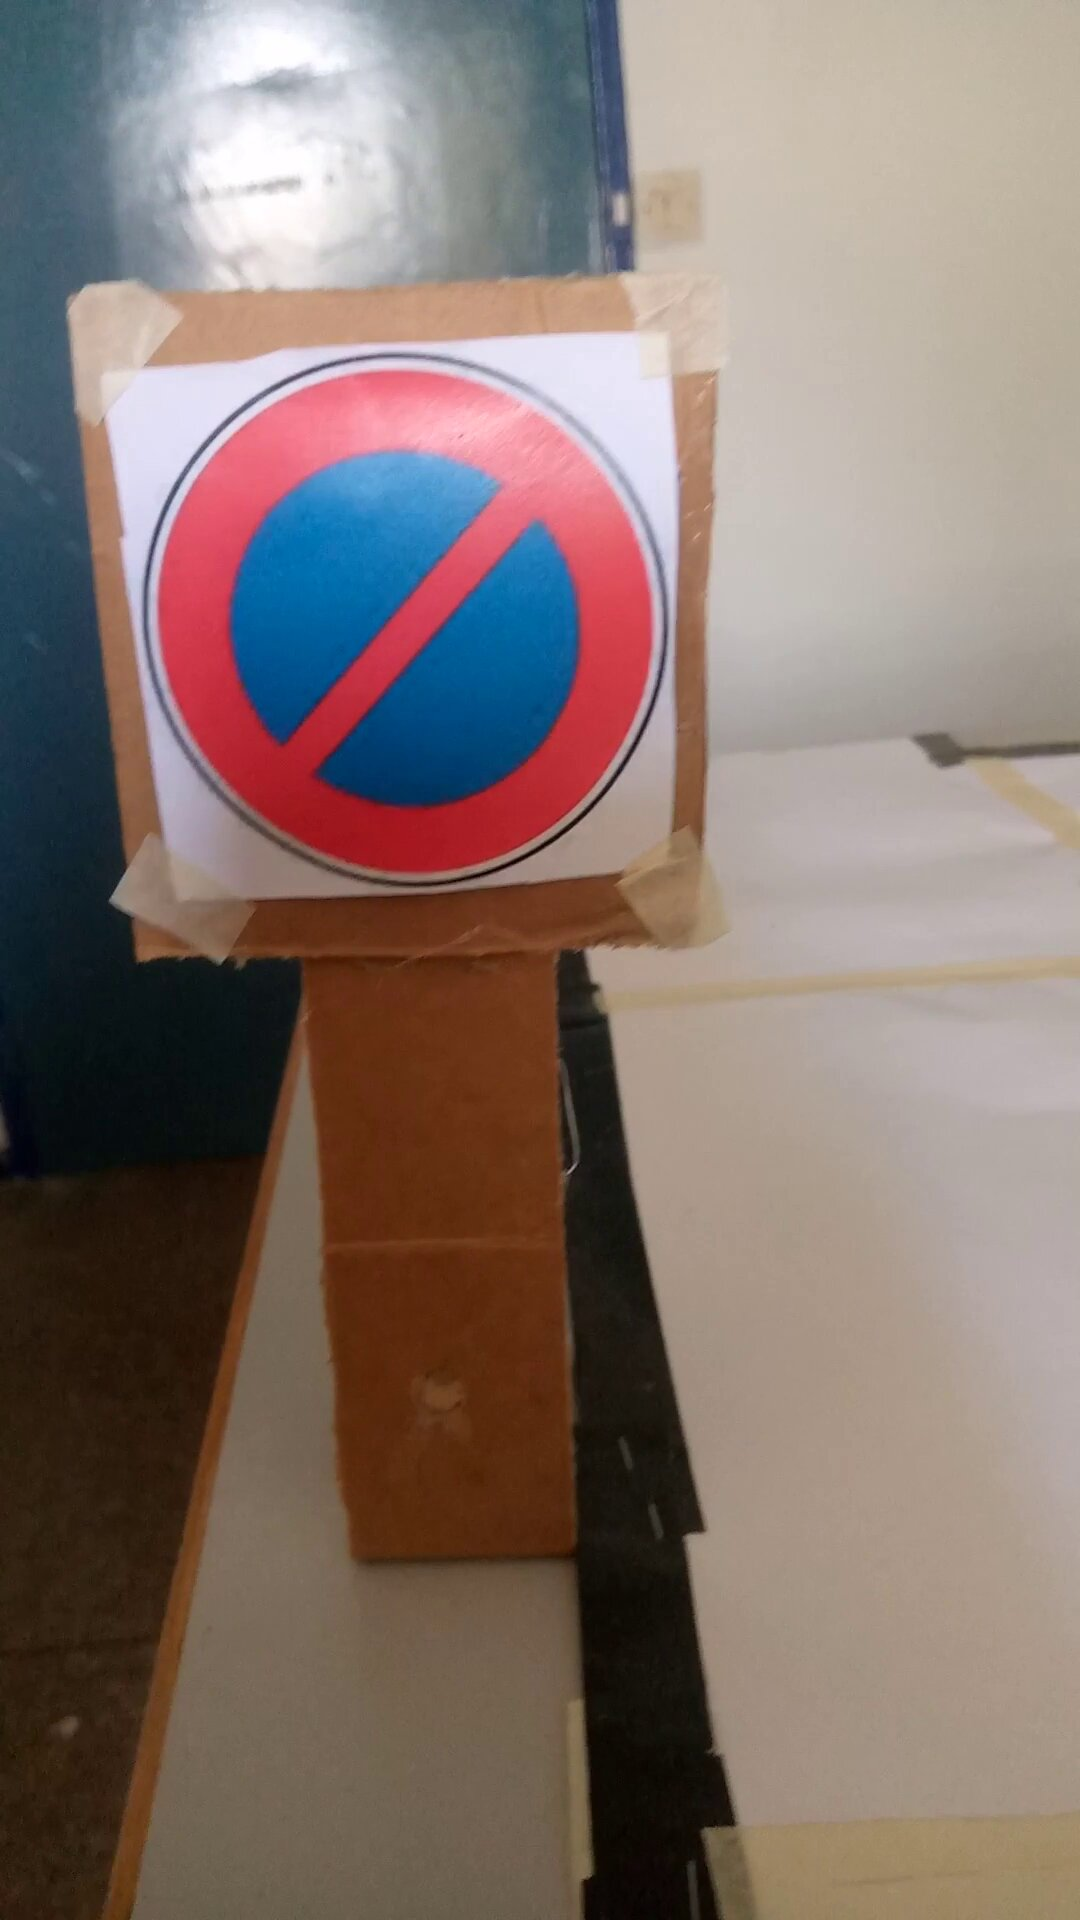panel110: (102, 357, 678, 889)
